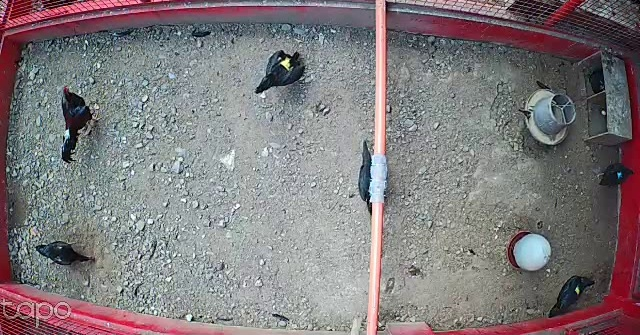Chicken: (257, 46, 308, 95), (547, 272, 598, 316), (33, 236, 96, 268), (357, 134, 378, 218), (588, 160, 635, 190)
Rooster: (54, 79, 107, 168)
Saddle_Color_Blue: (616, 171, 622, 179)
Saddle_Color_Yellow: (281, 55, 296, 70)
Saddle_Color_YellowGreen: (574, 286, 582, 295)
